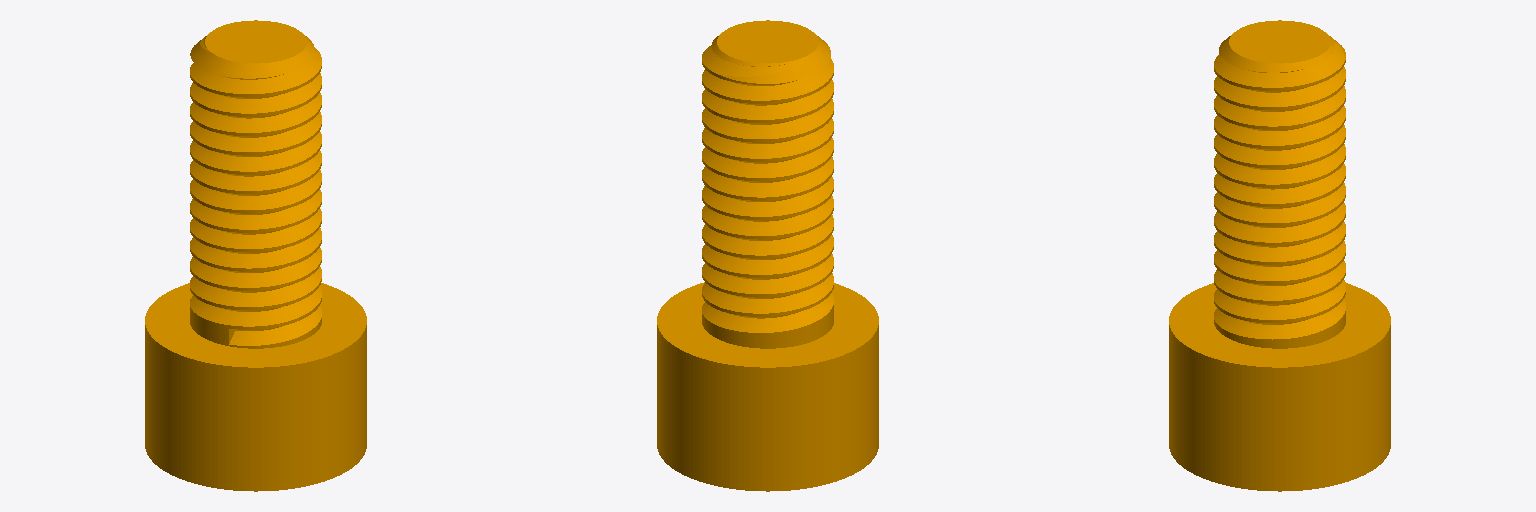
URDF robot description (factory_bolt_m8_loose):
<?xml version="1.0"?>
<robot name="factory_bolt_m8_loose">
    <link name="factory_bolt_m8_loose">
        <visual>
            <geometry>
                <mesh filename="../mesh/factory_nut_bolt/factory_bolt_m8_loose.obj"/>
            </geometry>
        </visual>
        <collision>
            <geometry>
                <mesh filename="../mesh/factory_nut_bolt/factory_bolt_m8_loose.obj"/>
            </geometry>
            <sdf resolution="512"/>
        </collision>
    </link>
</robot>

--- Render facts (derived) ---
Views: 3 orthographic renders of the robot side by side, from view 1: azimuth 30°, elevation 25°; view 2: azimuth 150°, elevation 25°; view 3: azimuth 270°, elevation 25°.
Model factory_bolt_m8_loose with 1 links and 0 joints (none), rooted at factory_bolt_m8_loose, posed all joints at 0.
Links seen in each view (by area): view 1: factory_bolt_m8_loose; view 2: factory_bolt_m8_loose; view 3: factory_bolt_m8_loose.
Link boxes in pixels (x1,y1,x2,y2): factory_bolt_m8_loose: (145,20,366,491); factory_bolt_m8_loose: (657,20,878,491); factory_bolt_m8_loose: (1169,20,1390,491).
Bounding box of the posed robot: 0.013 × 0.013 × 0.026 m (x, y, z).
Meshes: 1 distinct files referenced, 1 mesh visuals loaded (1 OBJ).